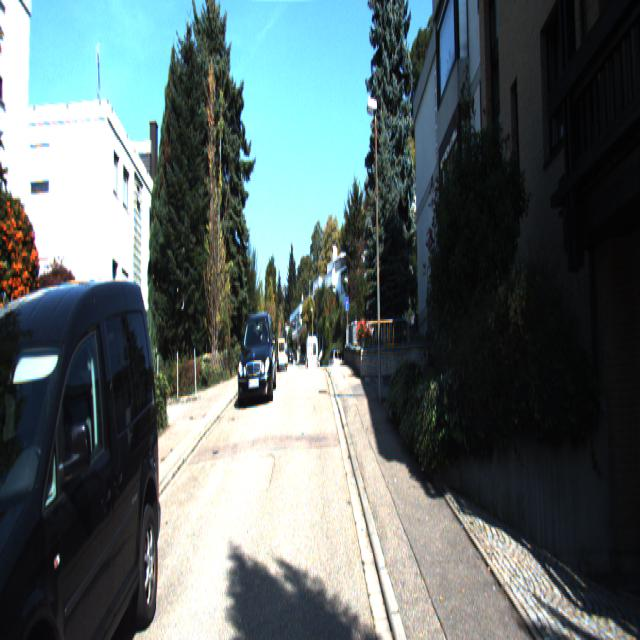Car: (0, 253, 166, 638), (236, 310, 278, 405), (306, 336, 319, 382)
